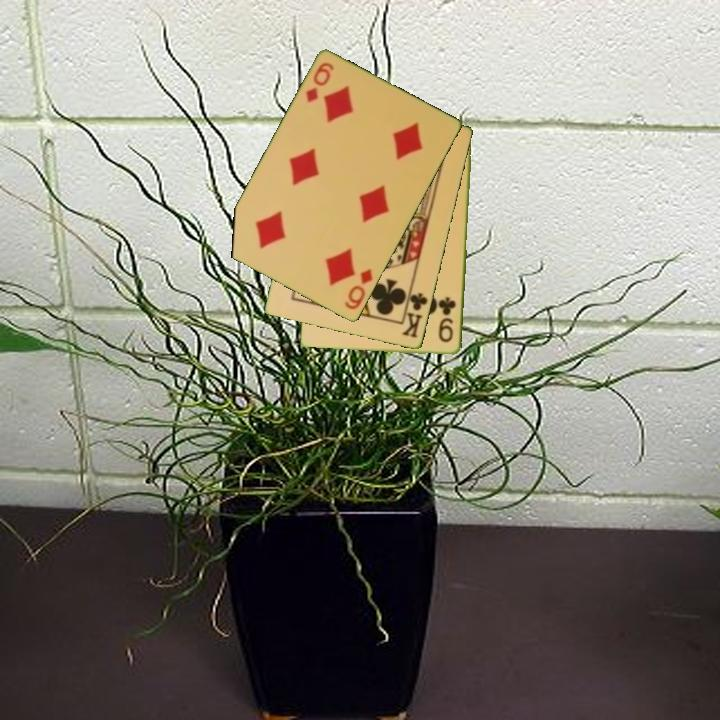6d: (341, 266, 376, 313), (302, 59, 337, 106)
9c: (436, 294, 459, 346)
Kc: (399, 284, 431, 341)
